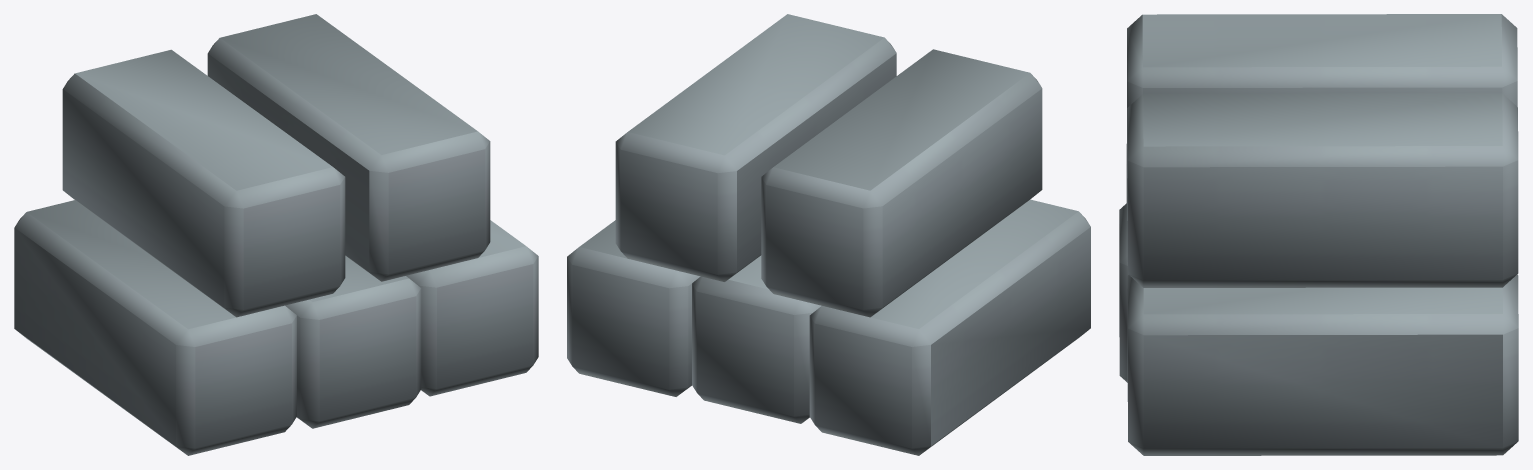
The model's file is kaykit-medieval-hexagon-pack-resource-stone.glb.
3 views of the same model, side by side, from view 1: azimuth 30°, elevation 25°; view 2: azimuth 150°, elevation 25°; view 3: azimuth 270°, elevation 25° (orthographic). The views are drawn at different scales.
Visible parts, largest first — view 1: resource_stone; view 2: resource_stone; view 3: resource_stone.
Boxes of the visible parts, bbox=[...] form: resource_stone: bbox=[14, 14, 538, 455]; resource_stone: bbox=[567, 14, 1090, 455]; resource_stone: bbox=[1119, 14, 1518, 455].
Size of the model in its own units: 0.4211 by 0.28 by 0.3579.
1 material, 1 textured.
